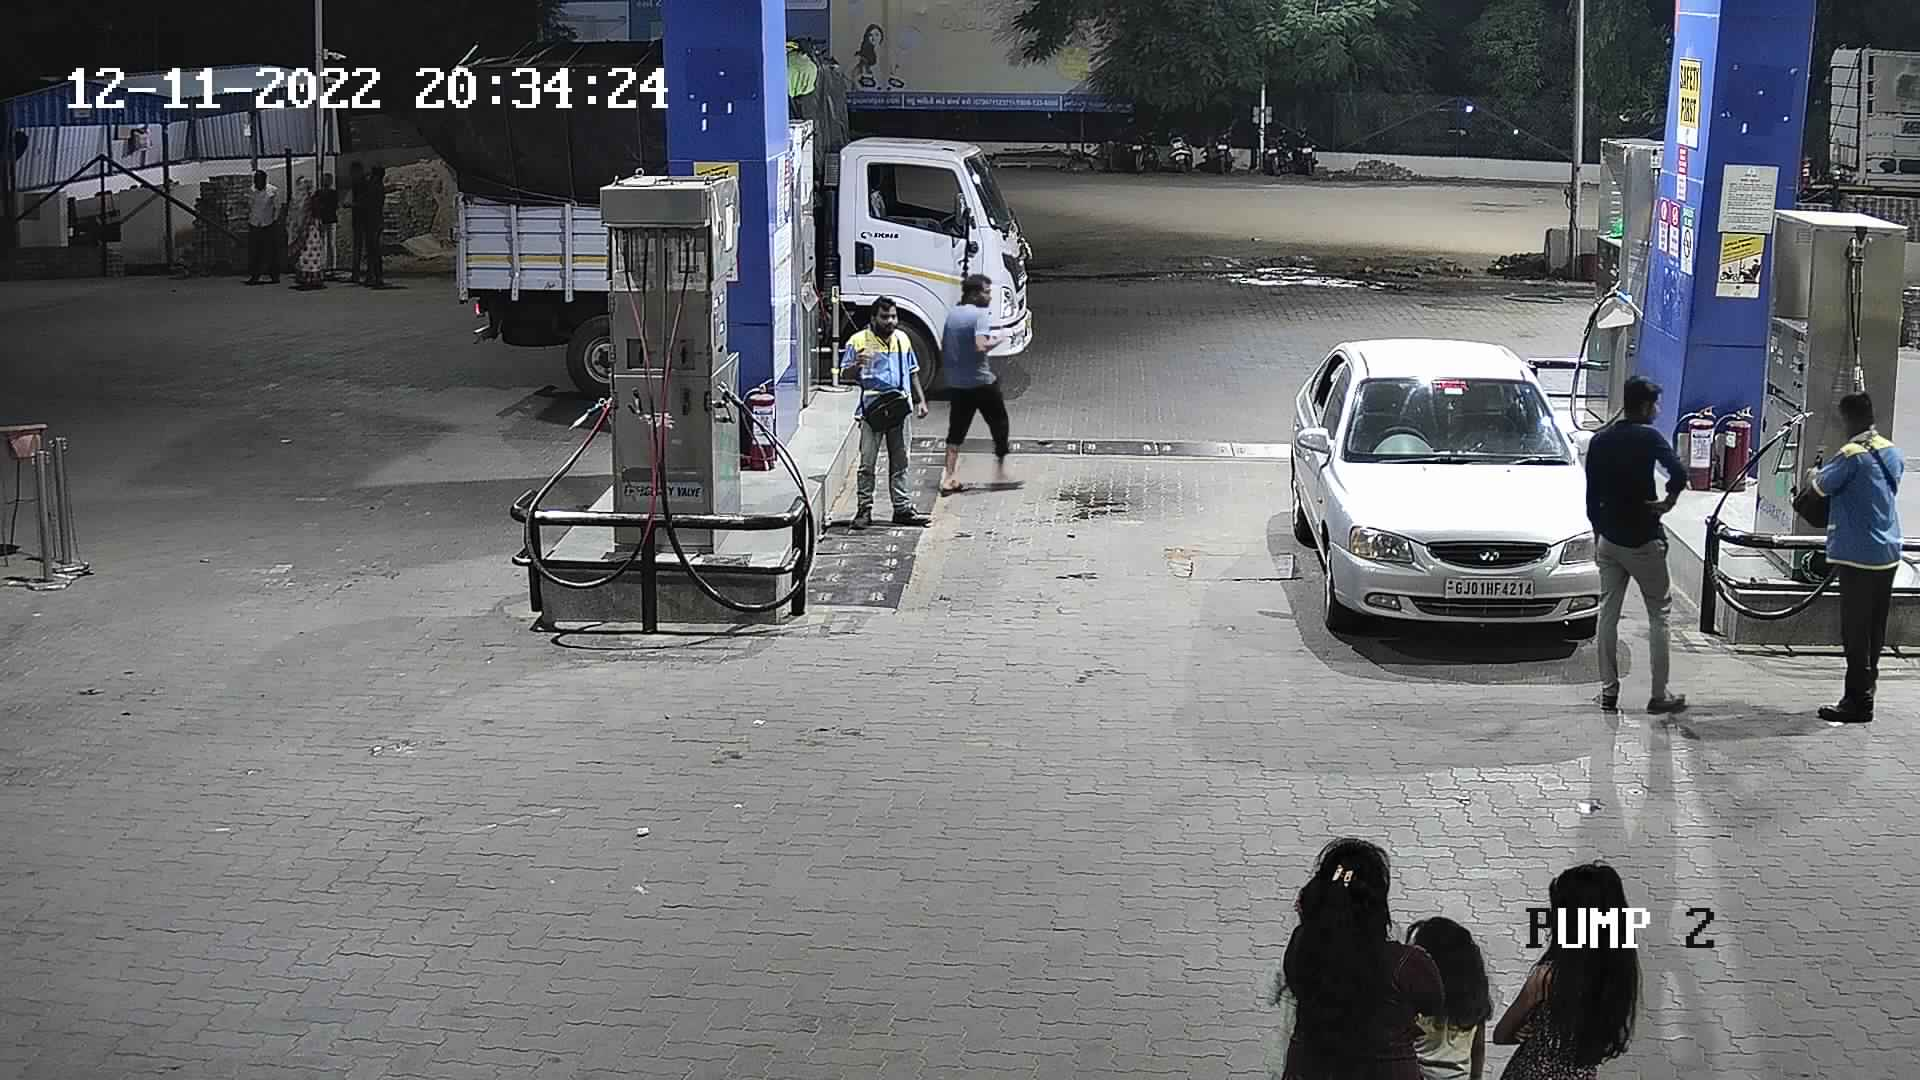Bike: (1114, 113, 1164, 181), (1196, 111, 1242, 177), (1158, 113, 1200, 179), (1283, 123, 1327, 179), (1257, 123, 1298, 179)
Car: (1263, 323, 1621, 653)
HMV: (400, 17, 674, 404), (1775, 26, 1913, 212)
Others: (1793, 380, 1911, 723), (829, 295, 938, 537)
